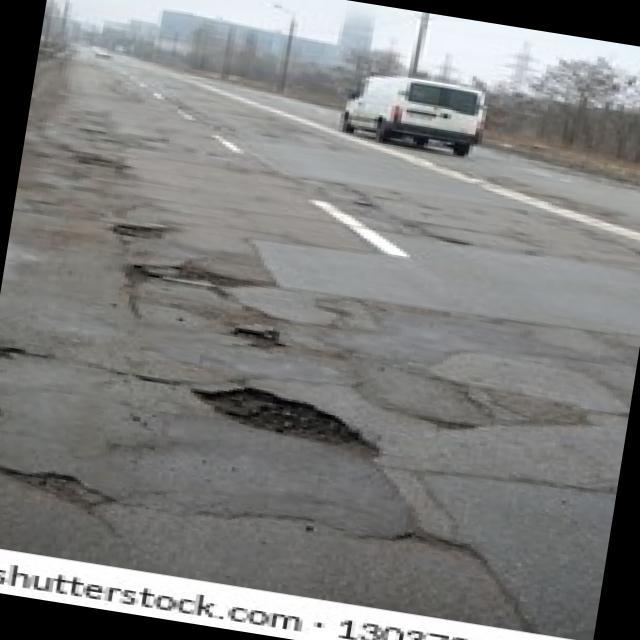Pothole: (188, 380, 390, 460), (116, 249, 267, 306), (0, 462, 115, 512), (398, 526, 484, 560), (224, 322, 292, 354), (109, 218, 179, 244), (78, 156, 131, 174), (0, 342, 33, 364)
